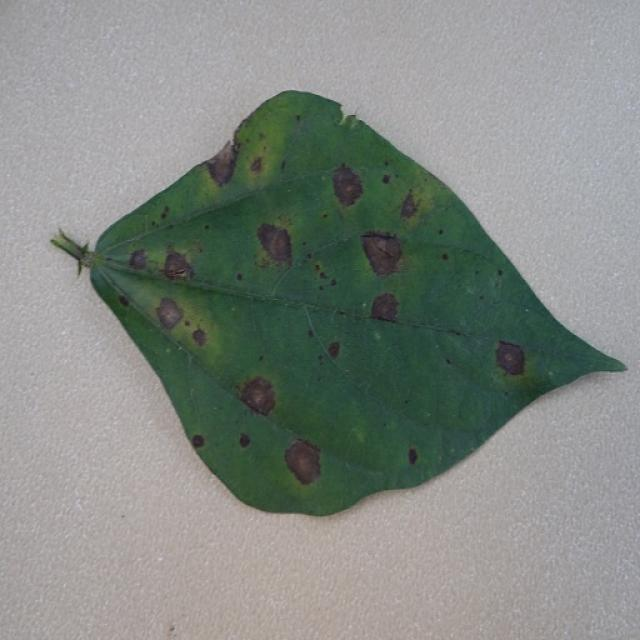Anthracnose: (360, 231, 405, 277), (282, 438, 324, 487), (235, 374, 278, 418), (255, 221, 294, 265), (330, 163, 366, 207), (206, 143, 238, 187), (366, 289, 406, 324), (493, 340, 527, 377), (161, 249, 196, 283), (154, 296, 185, 331), (400, 192, 419, 219), (128, 248, 149, 270), (191, 329, 207, 348), (249, 156, 263, 174), (327, 340, 340, 358), (191, 434, 205, 449), (238, 433, 251, 448), (408, 446, 418, 464)
Blackgram: (52, 91, 624, 514)
